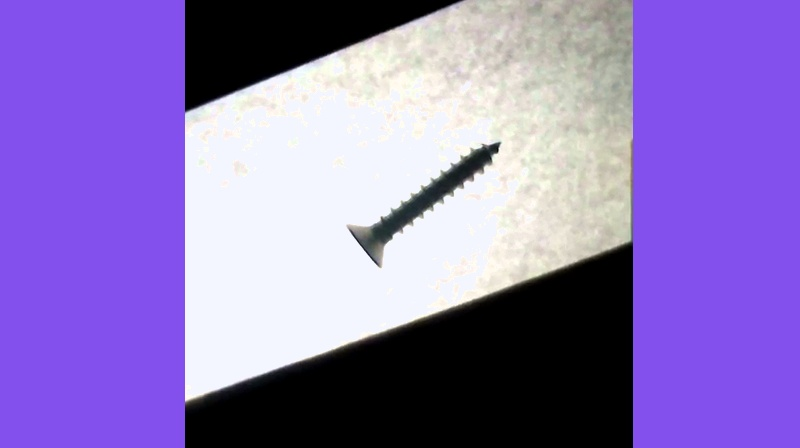S001: (343, 136, 507, 272)
